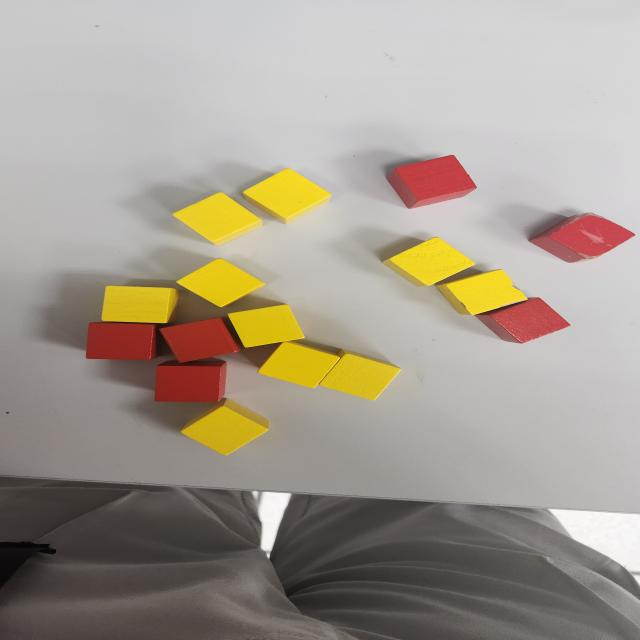broken: (529, 212, 637, 263), (382, 236, 477, 287), (436, 269, 528, 315), (100, 286, 180, 324)
red: (387, 154, 478, 209), (474, 296, 572, 344), (161, 318, 243, 362), (153, 361, 229, 403), (85, 322, 159, 360)
yellow: (180, 398, 271, 457), (240, 167, 332, 225), (172, 192, 264, 246), (176, 258, 266, 307), (319, 350, 401, 400), (257, 341, 340, 388), (227, 304, 307, 347)
